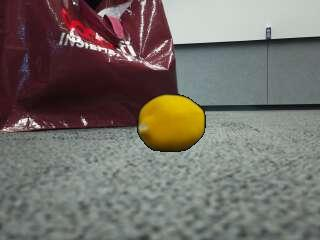lemon: (139, 95, 206, 151)
